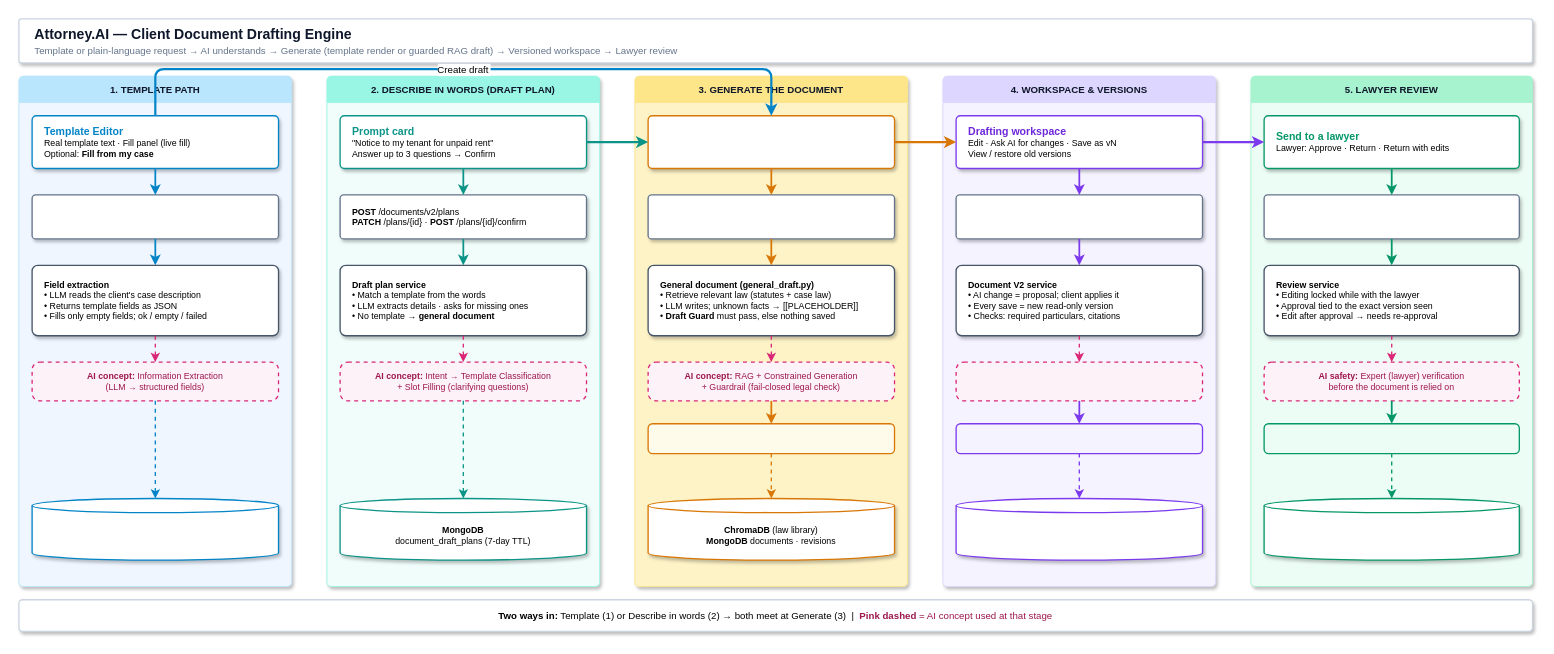
Image size: 1554x654. Some labels were removed from this diagram. Each missing label, with the centre of its shape:
"AI concept: Human-in-the-Loop (AI suggests, user decides)" goes at [1079,381].
"Create draft Template → render from fields General document → AI writes it" goes at [772,143].
"GET /documents/templates/{type}/text POST /documents/extract (fill from case)" goes at [156,217].
"MongoDB document_revisions Files generated PDFs" goes at [1080,530].
"MongoDB documents (review_cycles) · notifications" goes at [1392,530].
"POST /documents/v2 + /{id}/generate POST /plans/{id}/generate (Idempotency-Key)" goes at [772,217].
"POST /documents/v2/{id}/submit PATCH /{id}/review (lawyer)" goes at [1392,217].
"POST /{id}/workspace/assist POST /{id}/workspace/revisions · /restore" goes at [1080,217].
"SUBMITTED → APPROVED / RETURNED" goes at [1391,438].
"Template registry (server) MongoDB cases" goes at [156,530].
"v1 → v2 → v3 … (immutable)" goes at [1079,438].
"Version v1 (PDF rendered)" goes at [771,438].
